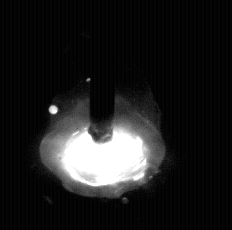arame: (90, 0, 114, 144)
poca: (40, 0, 167, 230)
